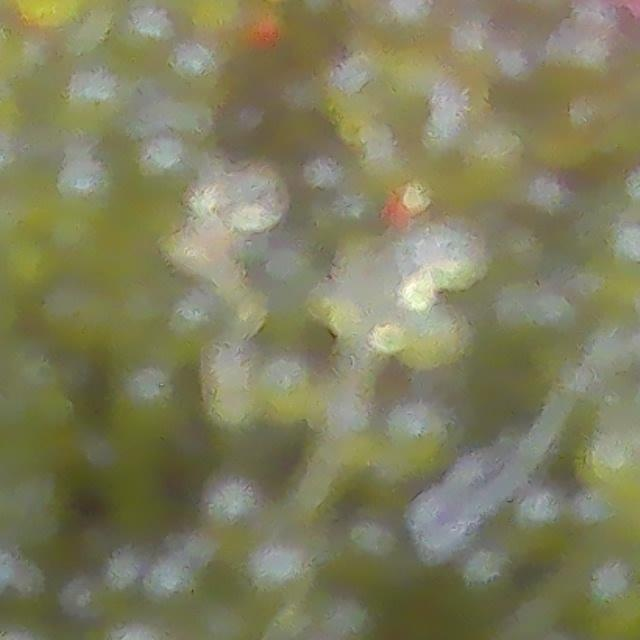SeaGrape: (220, 170, 286, 229)
